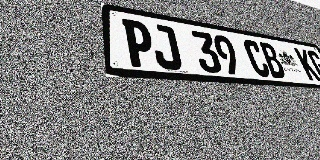3: (191, 30, 223, 74)
9: (211, 34, 243, 75)
B: (258, 42, 288, 79)
C: (242, 39, 272, 77)
G: (306, 50, 320, 82)
J: (149, 23, 183, 71)
K: (294, 48, 320, 81)
P: (122, 18, 156, 69)
